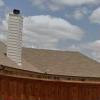Chimney: (5, 3, 30, 64)
